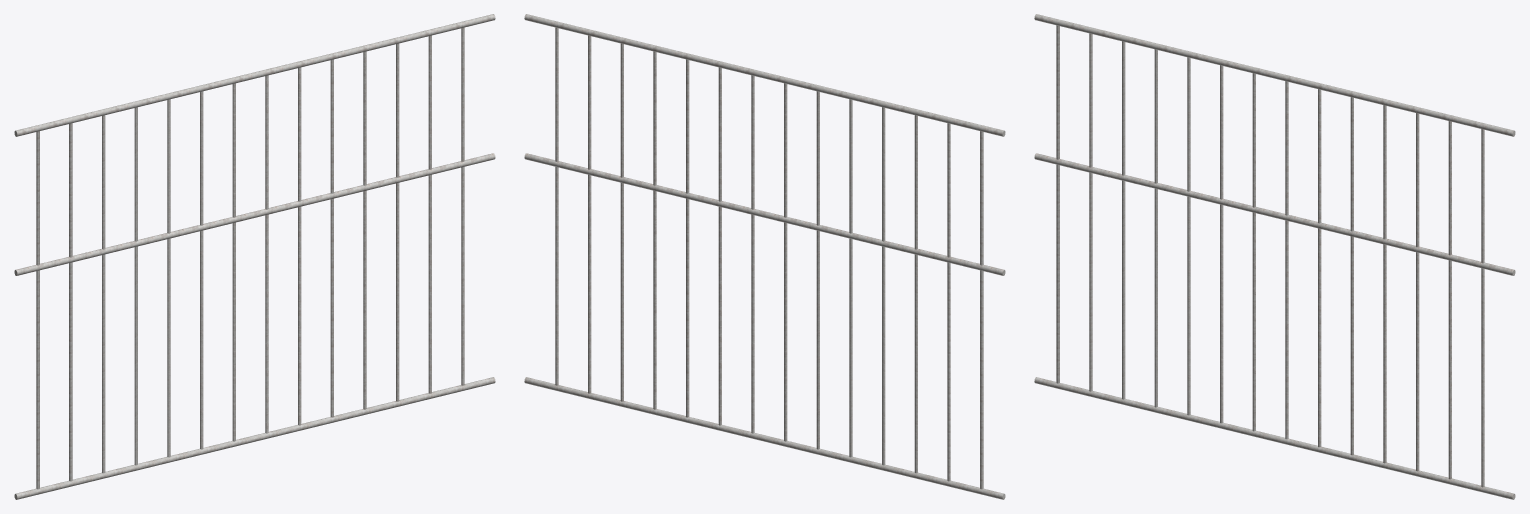
3 views of the same model, side by side, from view 1: azimuth 30°, elevation 25°; view 2: azimuth 150°, elevation 25°; view 3: azimuth 330°, elevation 25° (orthographic).
Size of the model in its own units: 5.1 by 3.76 by 0.053.
1 material, 1 textured.
